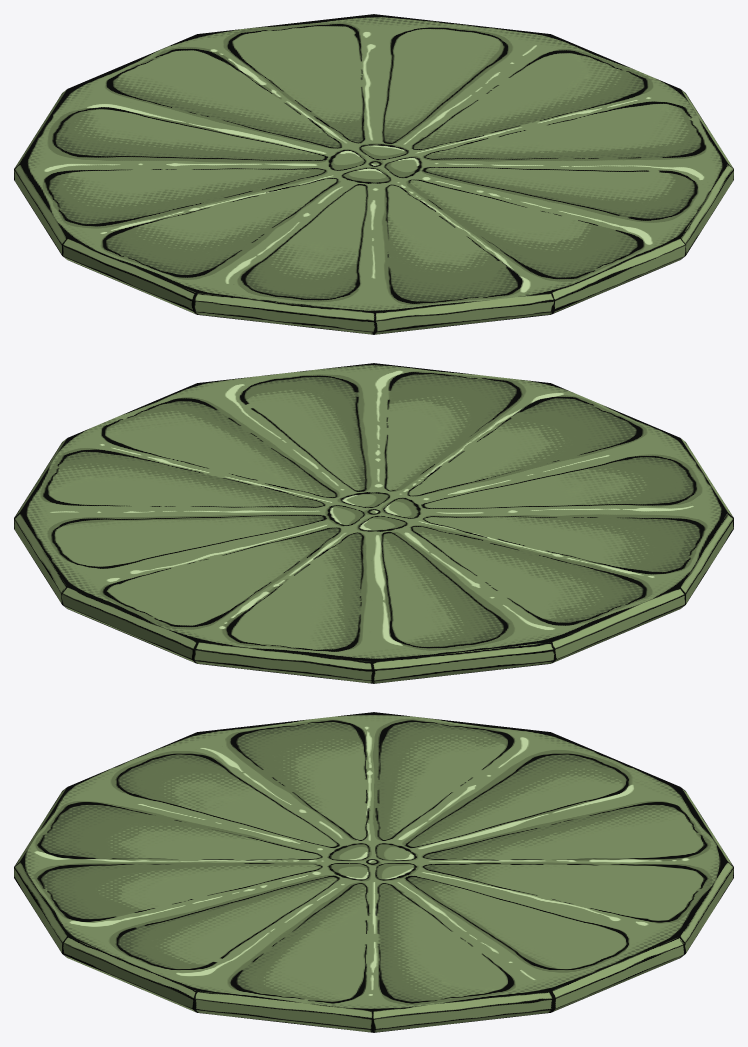
File: Leaf_Platform_Green_30m.fbx
3 renders of one model, top to bottom at view 1: azimuth 30°, elevation 25°; view 2: azimuth 150°, elevation 25°; view 3: azimuth 270°, elevation 25°, orthographic.
Visible parts, largest first — view 1: Cylinder.001; view 2: Cylinder.001; view 3: Cylinder.001.
Part boxes in pixels (x1,y1,x2,y2): Cylinder.001: [14, 14, 733, 334]; Cylinder.001: [14, 363, 733, 683]; Cylinder.001: [14, 712, 733, 1032].
Bounding box in the file's own units: 3000 × 3000 × 100.
